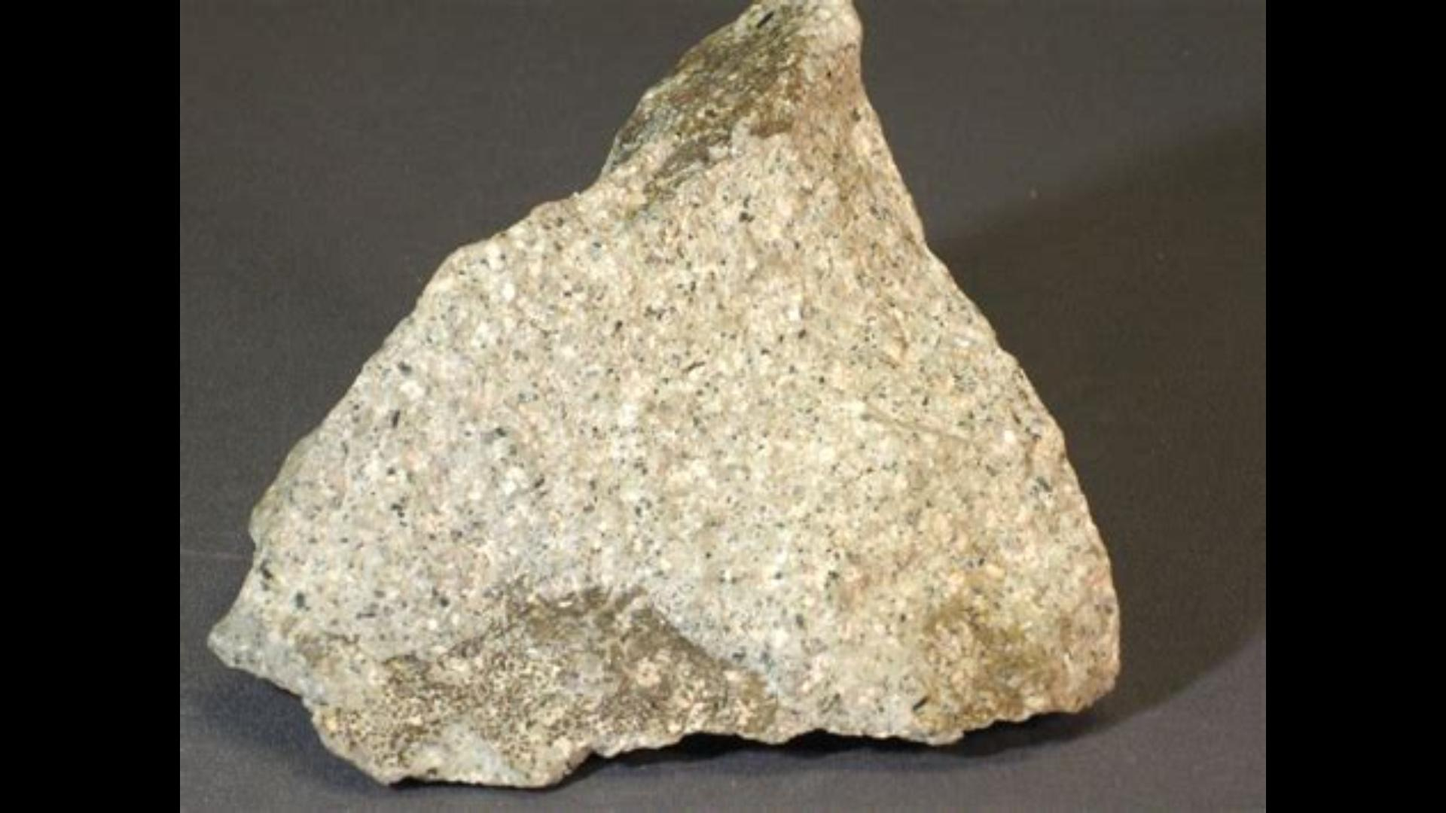rock: (210, 5, 1110, 783)
